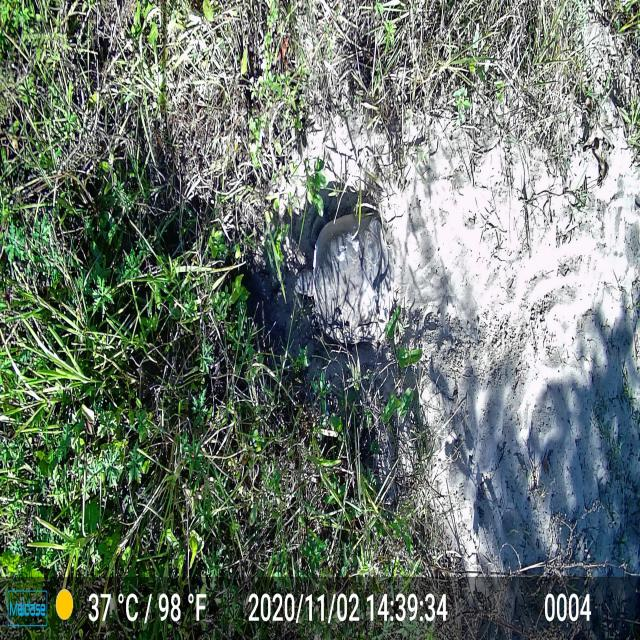tortoise: (294, 206, 394, 354)
